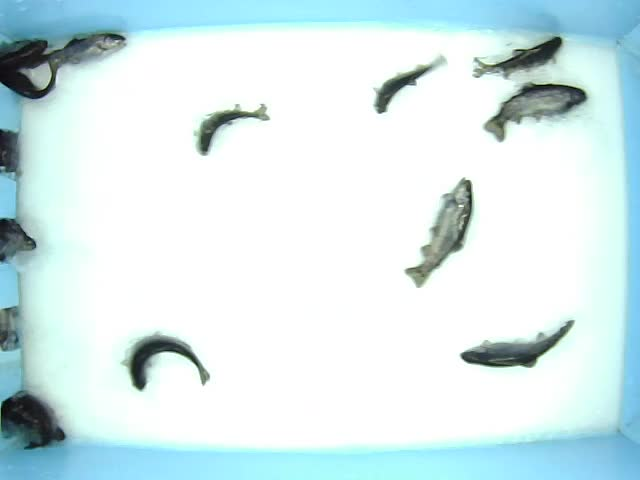fish: (403, 174, 475, 290), (483, 80, 589, 144), (459, 319, 576, 370), (119, 331, 211, 393), (372, 52, 449, 117), (192, 103, 273, 158), (471, 34, 563, 81), (25, 31, 128, 72)
